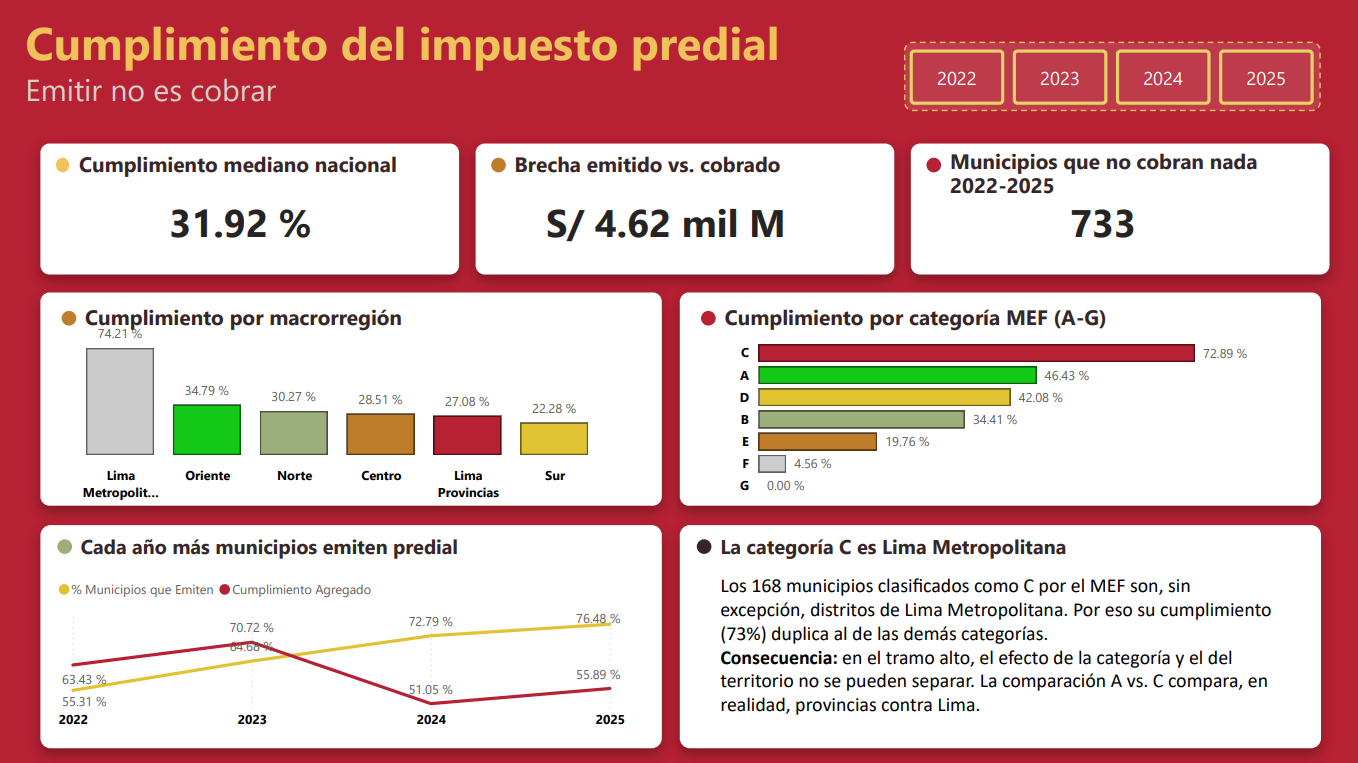

The dashboard page shown, as its layout file describes it:
{"tool":"powerbi","page":{"name":"Cumplimiento Predial","canvas":[1280,720],"ordinal":2},"visuals":[{"type":"advancedSlicerVisual","fields":{"Values":["DimAño.ANO"]},"box":[850.5,41,390.9,61.5],"z":0},{"type":"cardVisual","fields":{"Data":["MedidasDAX.Cumplimiento Mediano"]},"box":[130.6,160,221.5,92.2],"z":1000},{"type":"cardVisual","fields":{"Data":["MedidasDAX.Municipios Sin Cobranza"]},"box":[978.1,160,139.5,92.2],"z":2000},{"type":"cardVisual","fields":{"Data":["MedidasDAX.Brecha Total"]},"box":[485.2,160,326.5,92.2],"z":3000},{"type":"columnChart","fields":{"Category":["gold UBICACION.MACRO_REGION"],"Y":["Median(gold CUMPLIMIENTO_PREDIAL.CUMPLIMIENTO_META_PREDIAL)"]},"box":[32,289.3,560.8,188.2],"z":4000},{"type":"clusteredBarChart","fields":{"Category":["gold CUMPLIMIENTO_PREDIAL.CLASIFICACION"],"Y":["Median(gold CUMPLIMIENTO_PREDIAL.CUMPLIMIENTO_META_PREDIAL)"]},"box":[690.1,302.1,489.1,175.4],"z":5000},{"type":"lineChart","fields":{"Category":["DimAño.ANO"],"Y":["MedidasDAX.Pct Municipios Que Emiten","MedidasDAX.Cumplimiento Agregado"]},"box":[49.9,533.9,542.8,160],"z":6000}]}

Visuals, with their boxes in screenshot pixels (x1, y1, x2, y2), scaled from the page's 1280x720 canvas onto the 1358x763 screenshot:
advancedSlicerVisual - DimAño.ANO: crop(902, 43, 1317, 109)
cardVisual - MedidasDAX.Cumplimiento Mediano: crop(139, 170, 374, 267)
cardVisual - MedidasDAX.Municipios Sin Cobranza: crop(1038, 170, 1186, 267)
cardVisual - MedidasDAX.Brecha Total: crop(515, 170, 861, 267)
columnChart - gold UBICACION.MACRO_REGION x Median(gold CUMPLIMIENTO_PREDIAL.CUMPLIMIENTO_META_PREDIAL): crop(34, 307, 629, 506)
clusteredBarChart - gold CUMPLIMIENTO_PREDIAL.CLASIFICACION x Median(gold CUMPLIMIENTO_PREDIAL.CUMPLIMIENTO_META_PREDIAL): crop(732, 320, 1251, 506)
lineChart - DimAño.ANO x MedidasDAX.Pct Municipios Que Emiten: crop(53, 566, 629, 735)
